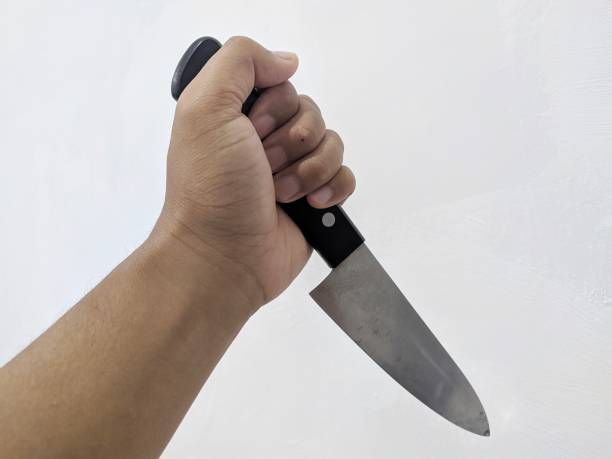knife: (168, 34, 492, 441)
